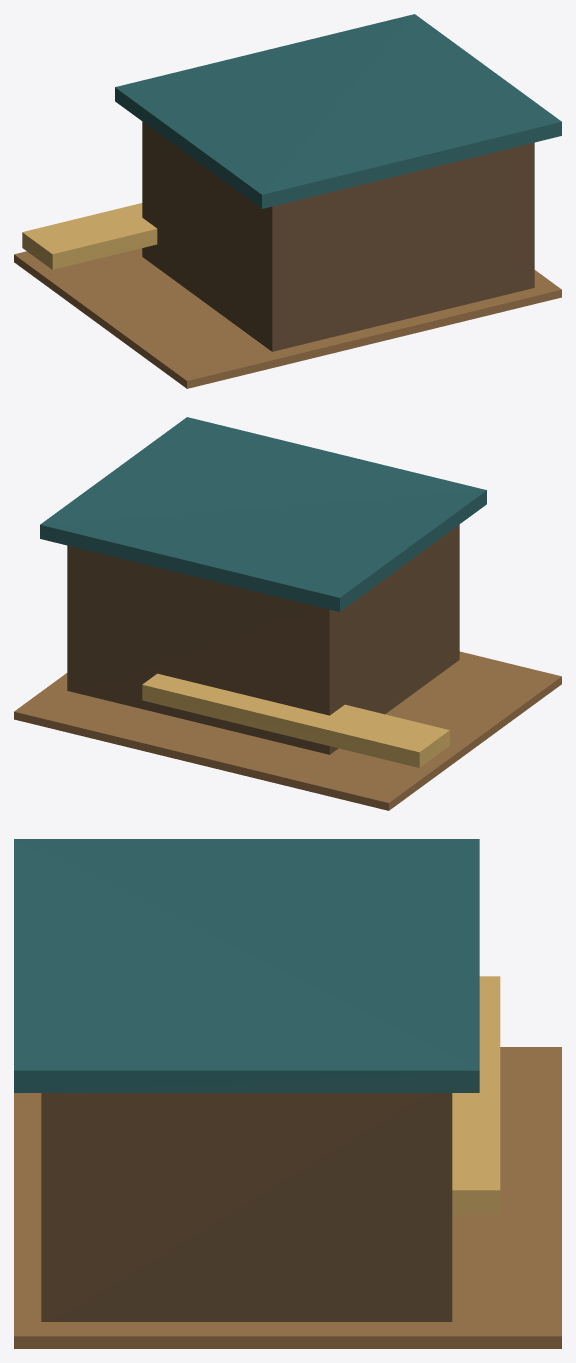
The model's file is robotic-packing-facility.source.glb.
The picture shows the model from 3 angles, top to bottom: view 1: azimuth 30°, elevation 25°; view 2: azimuth 150°, elevation 25°; view 3: azimuth 270°, elevation 25°; orthographic projection. The views are drawn at different scales.
Visible parts, largest first — view 1: robotic-packing-facility-shed-mesh, robotic-packing-facility-canopy-mesh, robotic-packing-facility-pad-mesh, robotic-packing-facility-conveyor-mesh; view 2: robotic-packing-facility-canopy-mesh, robotic-packing-facility-shed-mesh, robotic-packing-facility-pad-mesh, robotic-packing-facility-conveyor-mesh; view 3: robotic-packing-facility-canopy-mesh, robotic-packing-facility-shed-mesh, robotic-packing-facility-pad-mesh, robotic-packing-facility-conveyor-mesh.
Boxes of the visible parts, x1,y1,x2,y2 form: robotic-packing-facility-shed-mesh: (142,121,534,351); robotic-packing-facility-canopy-mesh: (115,14,561,208); robotic-packing-facility-pad-mesh: (14,248,561,388); robotic-packing-facility-conveyor-mesh: (22,203,157,269); robotic-packing-facility-canopy-mesh: (40,417,486,611); robotic-packing-facility-shed-mesh: (67,524,459,754); robotic-packing-facility-pad-mesh: (14,651,561,810); robotic-packing-facility-conveyor-mesh: (142,673,449,767); robotic-packing-facility-canopy-mesh: (14,839,479,1092); robotic-packing-facility-shed-mesh: (41,1093,452,1321); robotic-packing-facility-pad-mesh: (14,1047,561,1348); robotic-packing-facility-conveyor-mesh: (452,976,500,1215).
Bounding box in the file's own units: 5.15 × 2.24 × 4.
